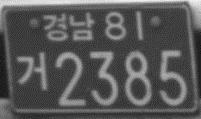1: (130, 10, 148, 40)
2: (54, 51, 86, 106)
3: (88, 50, 119, 105)
5: (158, 49, 187, 107)
8: (123, 50, 152, 105), (104, 11, 127, 40)
거: (15, 51, 48, 93)
경남_O: (41, 12, 95, 41)
